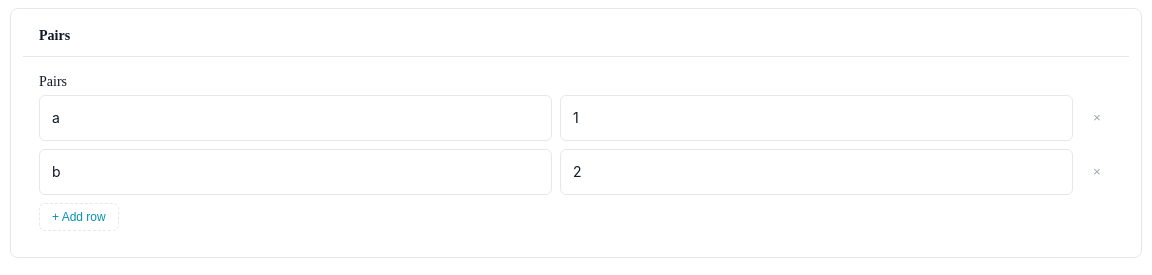
Test: Form › removes dynamic field rows
Check: the field named "Key 1" holds "a", box [39,95,552,141]
Check: the field named "Key 2" holds "b", box [39,149,552,195]
Step 1. Click the button named "Remove row 1" → {"x": 1097, "y": 118}, box [1081,102,1113,134]
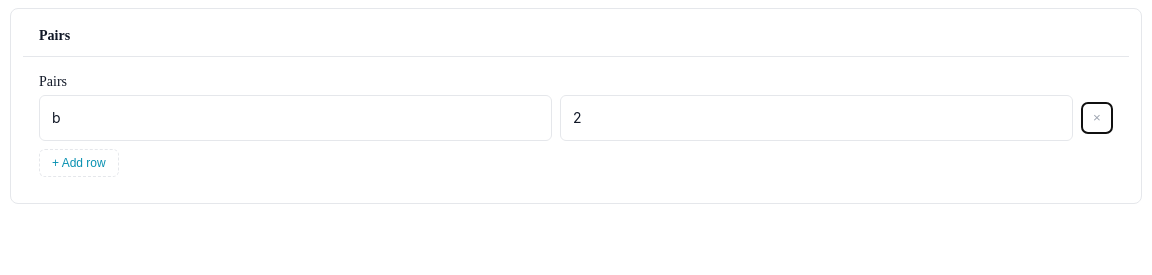
Check: the field named "Key 1" holds "b", box [39,95,552,141]
